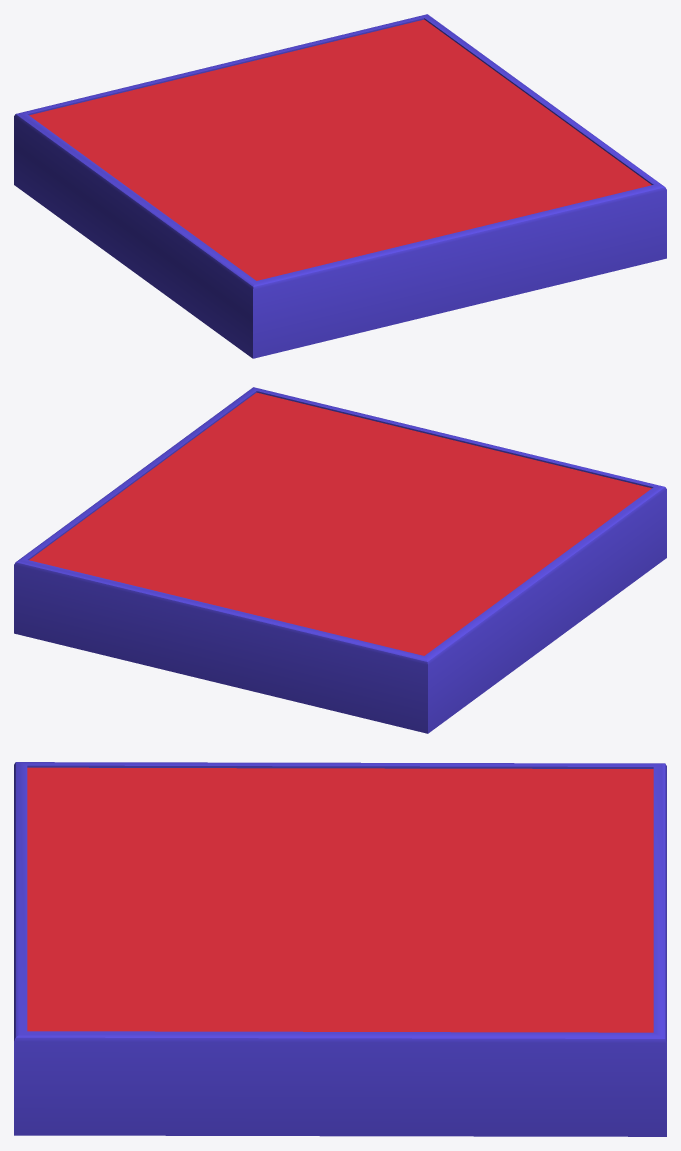
Rendered from Plateforme_3x3.fbx.
3 views of the same model, one above another, from view 1: azimuth 30°, elevation 25°; view 2: azimuth 150°, elevation 25°; view 3: azimuth 270°, elevation 25° (orthographic). The views are drawn at different scales.
Parts seen in each view (by area): view 1: 3x3; view 2: 3x3; view 3: 3x3.
Boxes of the visible parts, x1,y1,x2,y2 form: 3x3: (14,14,666,358); 3x3: (14,387,666,733); 3x3: (14,762,666,1136).
Bounding box in the file's own units: 300 × 51.19 × 300.
